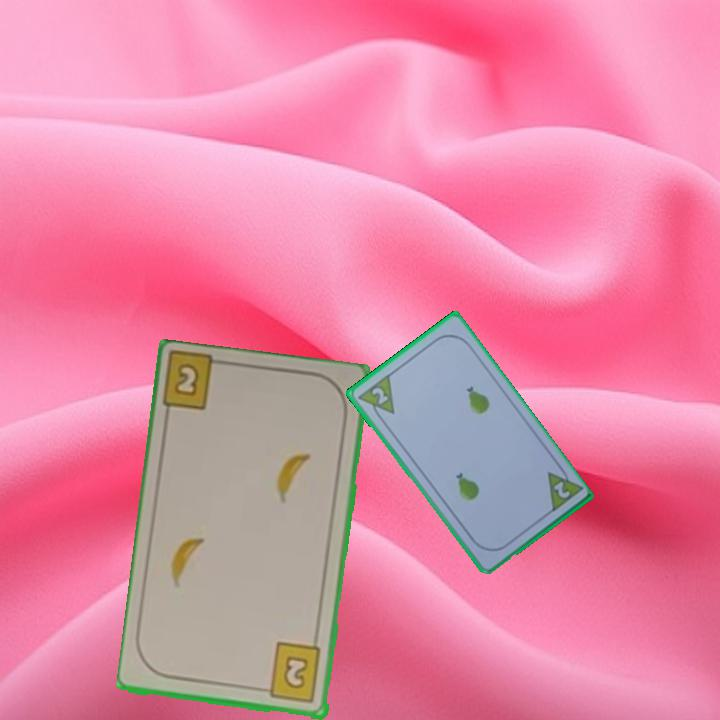2b: (257, 640, 325, 706), (171, 359, 202, 400)
2p: (367, 383, 391, 408), (549, 477, 573, 501)
